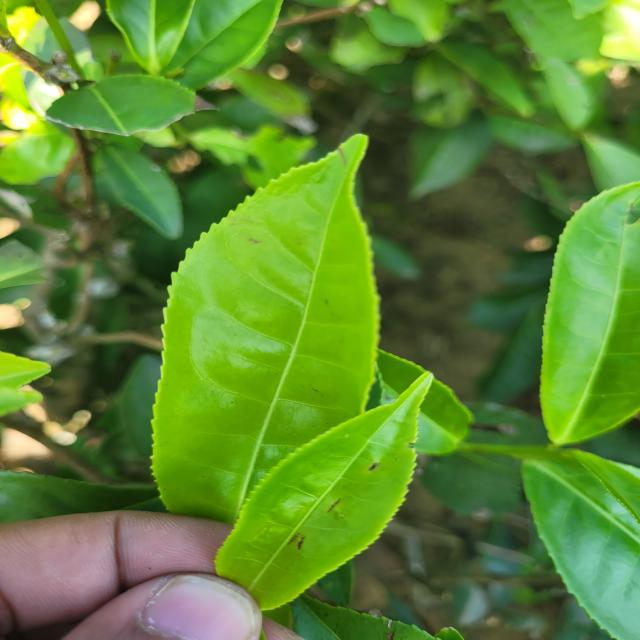Catagory A(1-2 days): (204, 357, 451, 622)
